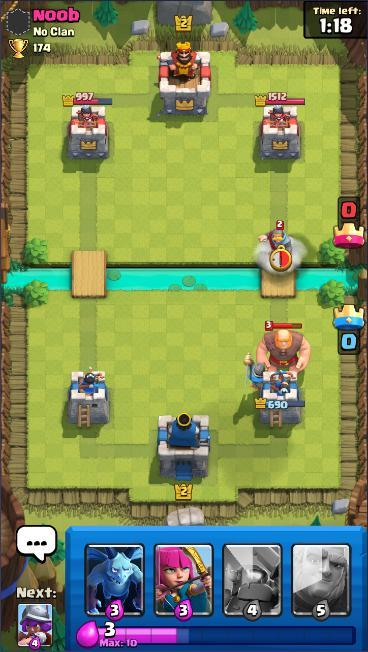ally_knight: (242, 351, 283, 394)
enemy_giant: (255, 318, 312, 382)
enemy_knight: (257, 219, 296, 273)
